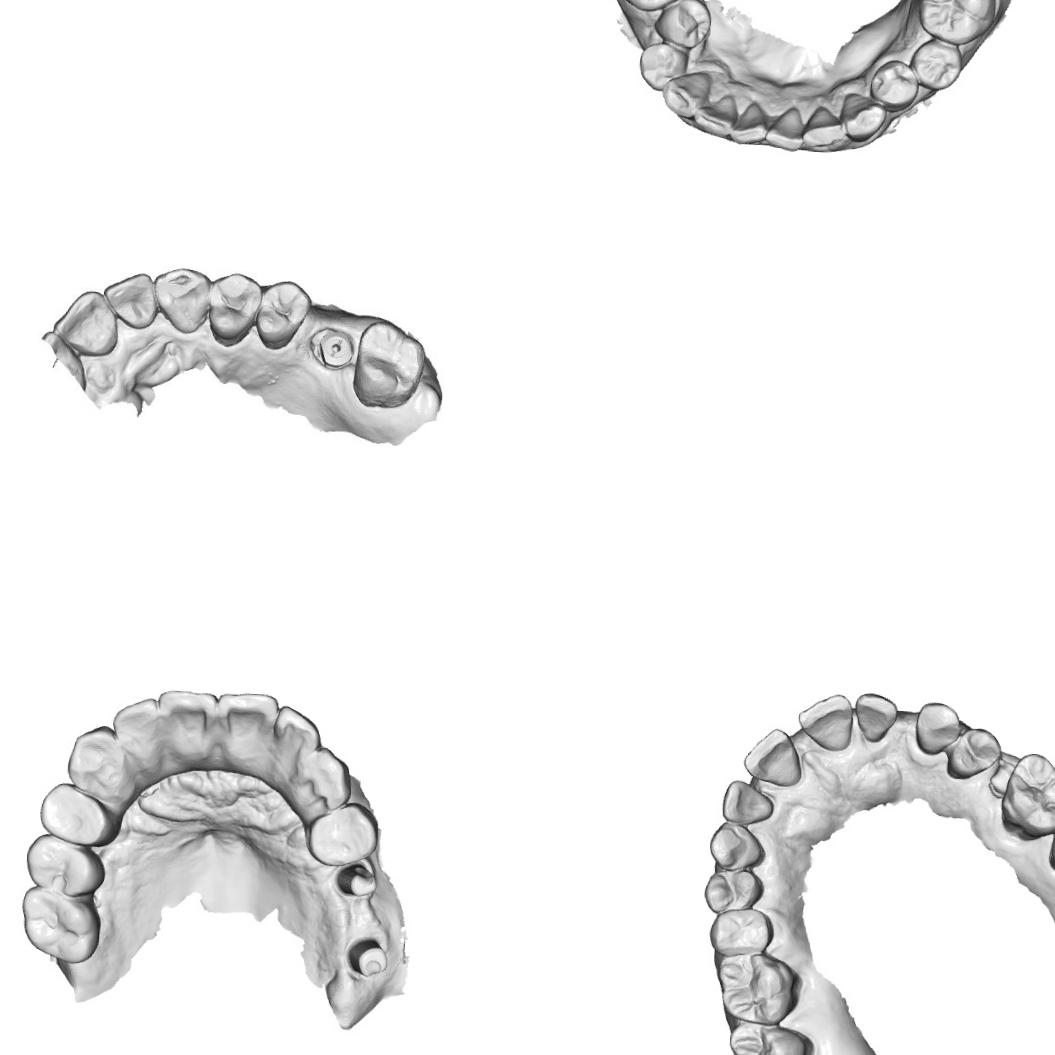abutment: (346, 933, 392, 980), (336, 860, 382, 902)
canine: (63, 723, 124, 801), (152, 263, 212, 332), (297, 744, 351, 811), (706, 818, 768, 870), (657, 68, 714, 120), (913, 699, 962, 758), (838, 90, 886, 144)
implant_minus: (310, 324, 357, 375)
incisor: (51, 286, 120, 357), (157, 688, 222, 755), (212, 691, 278, 753), (740, 725, 804, 788), (110, 696, 168, 764), (793, 688, 854, 752), (102, 266, 161, 332), (273, 704, 322, 764), (719, 778, 775, 827), (852, 690, 900, 744), (690, 90, 740, 138), (800, 104, 846, 152), (728, 98, 769, 146), (764, 104, 805, 152)
molar: (350, 318, 429, 410), (17, 885, 106, 962), (713, 949, 801, 1026), (997, 751, 1055, 844), (914, 0, 998, 47), (724, 1018, 813, 1055)
premolar: (26, 834, 103, 901), (33, 779, 109, 846), (309, 800, 380, 866), (251, 278, 313, 352), (206, 271, 262, 347), (706, 905, 774, 960), (942, 724, 1002, 782), (700, 865, 765, 916), (864, 58, 921, 112), (652, 0, 712, 49), (907, 38, 963, 90), (636, 42, 688, 92)
